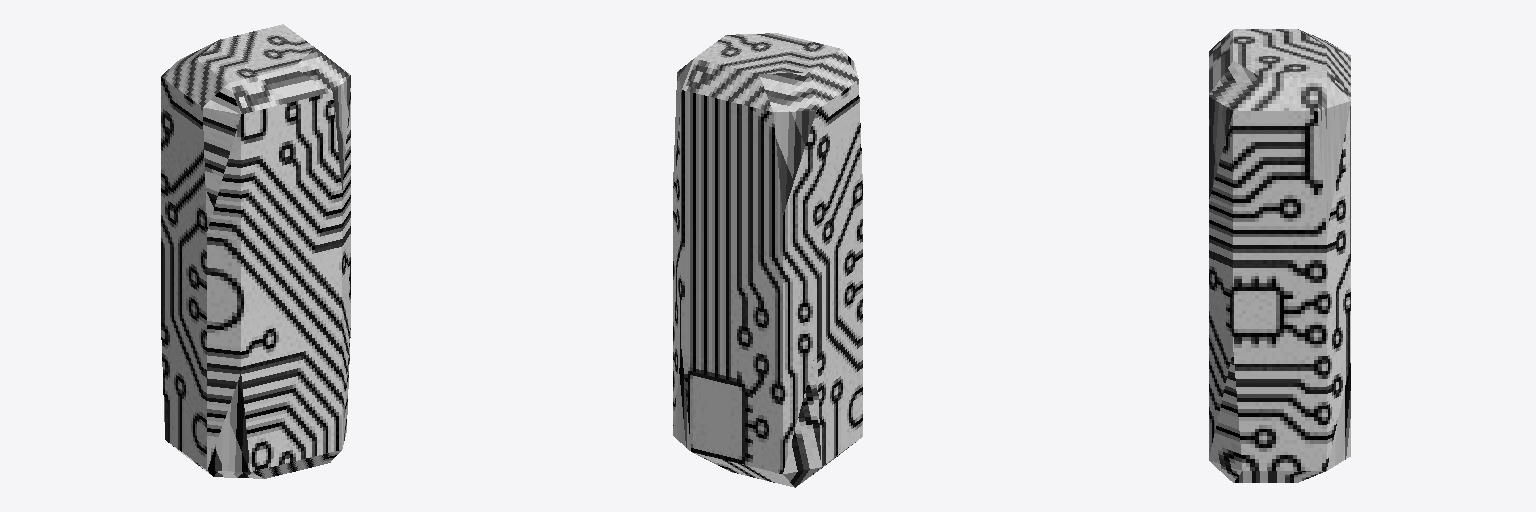
3 views of the same model, side by side, from view 1: azimuth 30°, elevation 25°; view 2: azimuth 150°, elevation 25°; view 3: azimuth 270°, elevation 25° (orthographic).
Parts seen in each view (by area): view 1: Arm_Cube.000; view 2: Arm_Cube.000; view 3: Arm_Cube.000.
Part boxes in pixels (x1,y1,x2,y2): Arm_Cube.000: (161,24,350,478); Arm_Cube.000: (673,33,862,487); Arm_Cube.000: (1209,29,1350,482).
Bounding box in the file's own units: 0.6711 × 1.8 × 0.576.
1 materials, 1 textured.